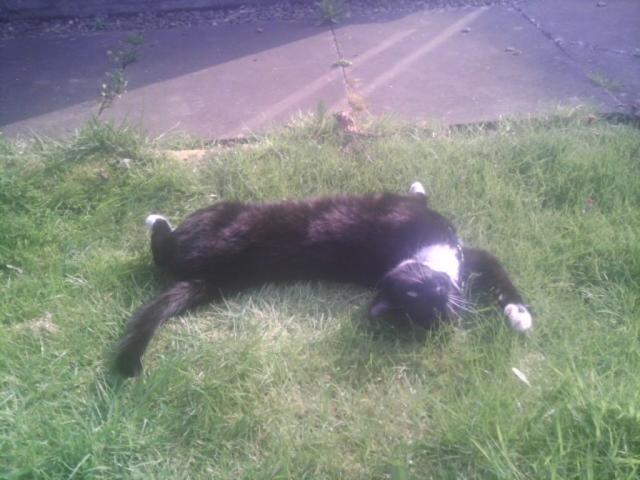Cat: (111, 178, 535, 376)
